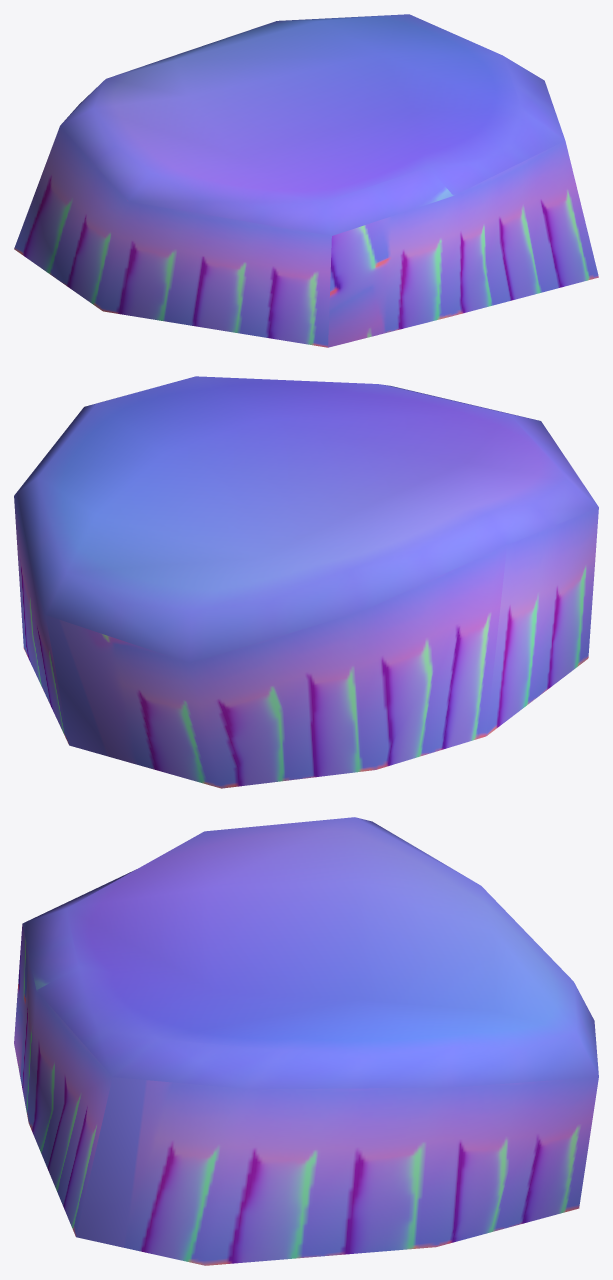
The model's file is cap_02_coll.FBX.
3 renders of one model, top to bottom at view 1: azimuth 30°, elevation 25°; view 2: azimuth 150°, elevation 25°; view 3: azimuth 270°, elevation 25°, orthographic. The views are drawn at different scales.
Parts seen in each view (by area): view 1: Cap_LP_02_coll; view 2: Cap_LP_02_coll; view 3: Cap_LP_02_coll.
Part boxes in pixels (bbox=[...]): Cap_LP_02_coll: bbox=[14, 14, 598, 347]; Cap_LP_02_coll: bbox=[14, 376, 598, 788]; Cap_LP_02_coll: bbox=[14, 817, 598, 1265].
Size of the model in its own units: 23.66 by 10.5 by 22.44.
1 material, 1 textured.
